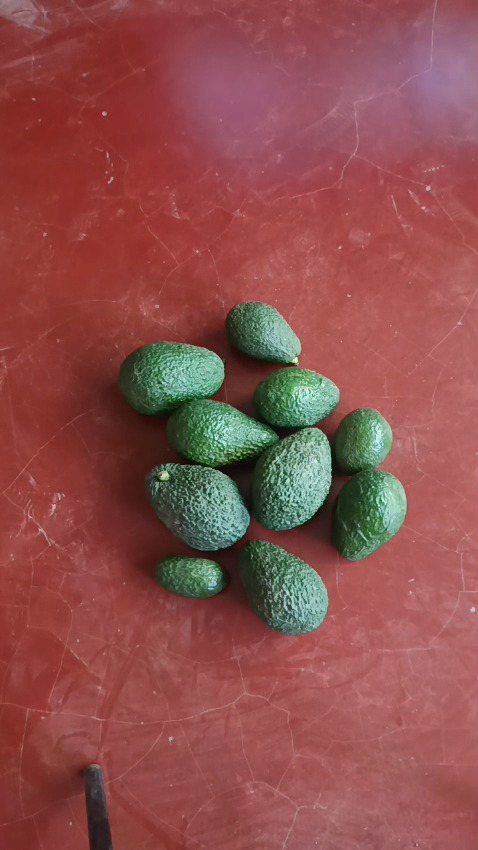Primera: (146, 463, 251, 550), (250, 427, 333, 529), (237, 540, 327, 631), (166, 398, 280, 467), (118, 342, 225, 415)
Segunda: (330, 469, 407, 558), (252, 367, 340, 427)
Tercera: (225, 302, 301, 363), (333, 409, 393, 474), (153, 553, 229, 597)
